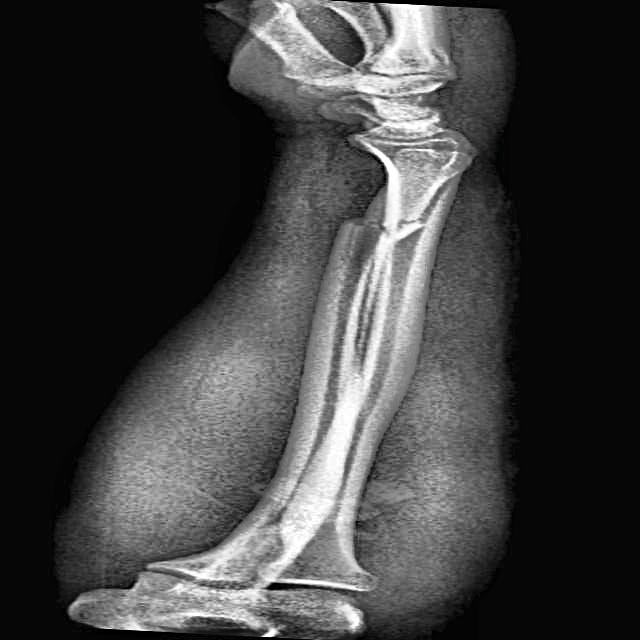Oblique Displaced: (286, 184, 458, 300)
